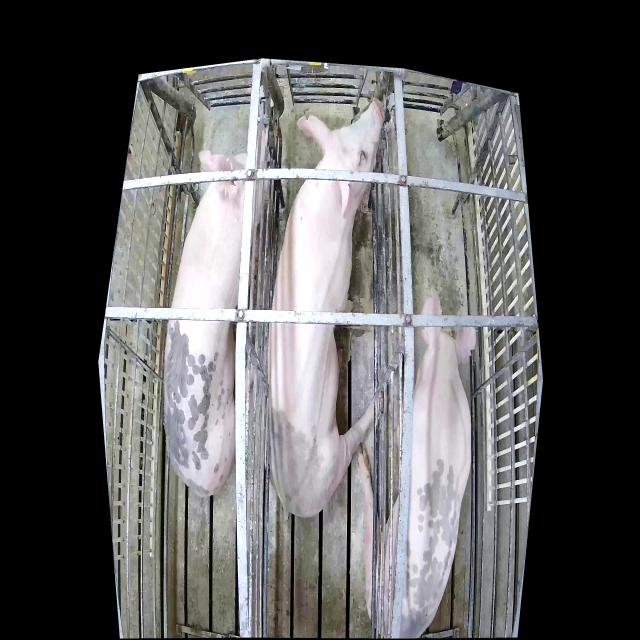pig: (267, 97, 385, 519), (357, 286, 476, 636), (165, 129, 269, 502)
